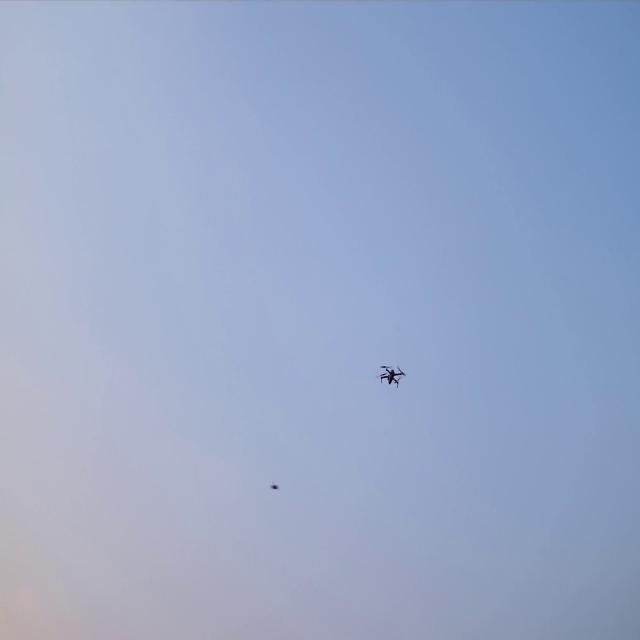UAV: (374, 363, 407, 390)
